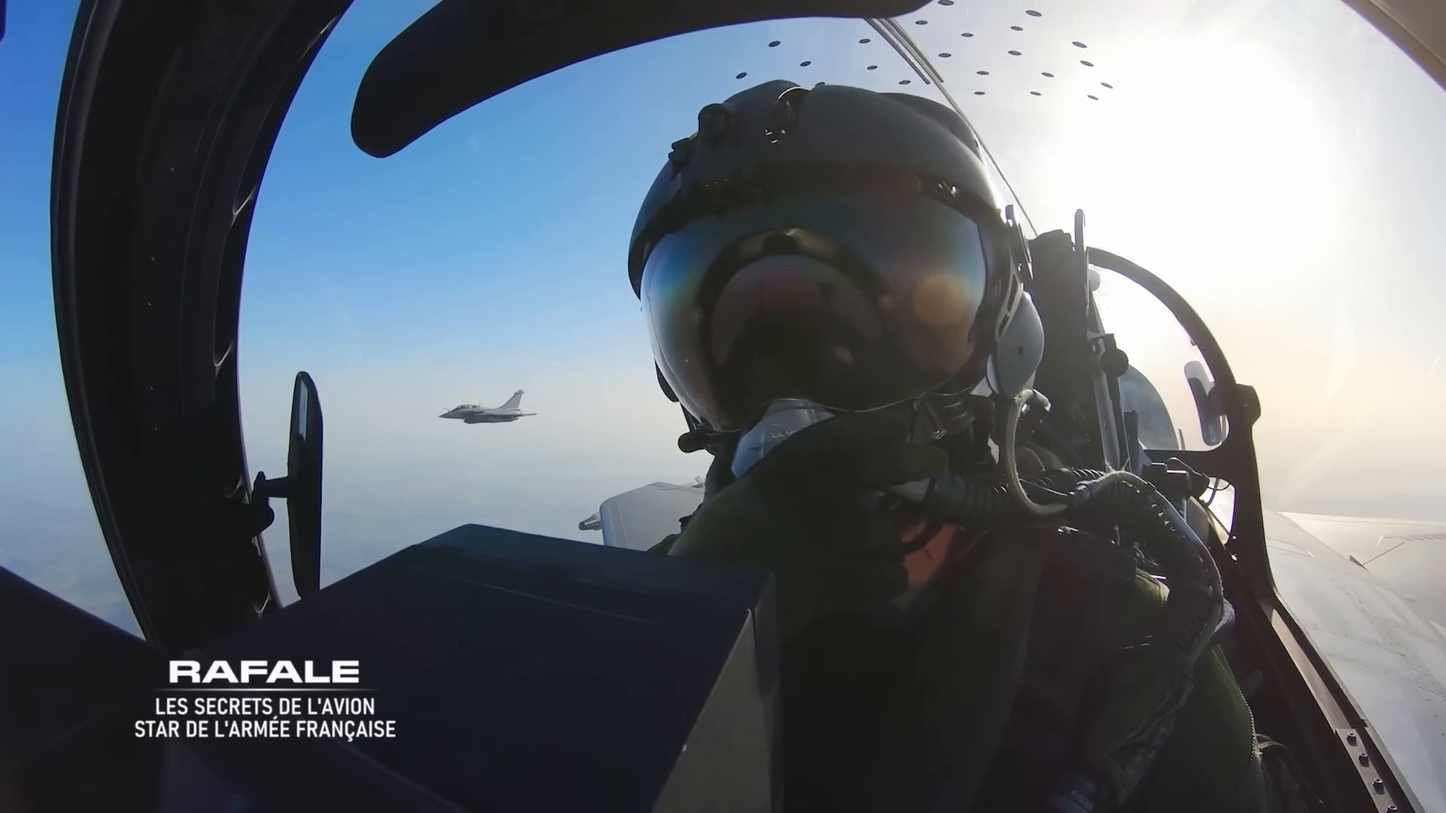Rafale: (436, 386, 539, 426)
